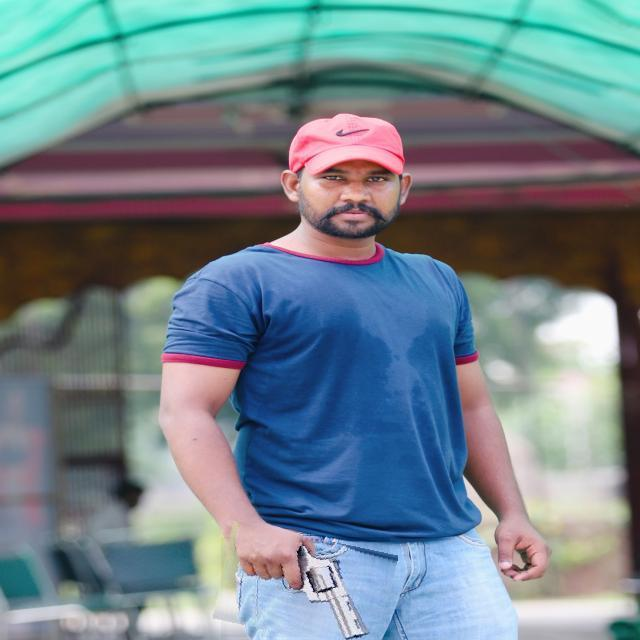handgun: (216, 529, 394, 640)
